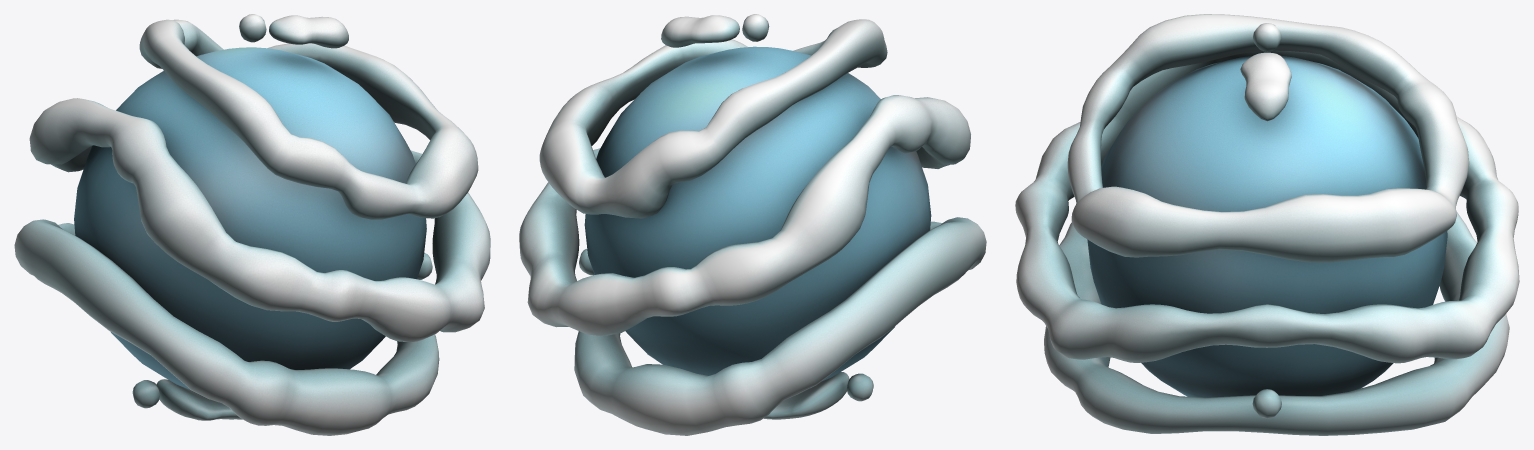
File: ToonPlanet1_v2.glb
3 views of the same model, side by side, from view 1: azimuth 30°, elevation 25°; view 2: azimuth 150°, elevation 25°; view 3: azimuth 270°, elevation 25° (orthographic). The views are drawn at different scales.
Parts seen in each view (by area): view 1: Planet02, Planet02_Cloud03, Planet02_Cloud04, Planet02_Cloud02, Planet02_Cloud01, Planet02_Cloud05, Planet02_Moon03, Planet02_Moon01; view 2: Planet02, Planet02_Cloud03, Planet02_Cloud04, Planet02_Cloud02, Planet02_Cloud01, Planet02_Cloud05, Planet02_Moon01, Planet02_Moon03; view 3: Planet02, Planet02_Cloud02, Planet02_Cloud03, Planet02_Cloud04, Planet02_Cloud01, Planet02_Moon02, Planet02_Moon01.
Boxes of the visible parts, x1,y1,x2,y2 form: Planet02: [74, 47, 426, 389]; Planet02_Cloud03: [29, 98, 490, 341]; Planet02_Cloud04: [14, 219, 439, 435]; Planet02_Cloud02: [139, 19, 478, 219]; Planet02_Cloud01: [269, 15, 348, 48]; Planet02_Cloud05: [156, 379, 242, 420]; Planet02_Moon03: [132, 380, 159, 408]; Planet02_Moon01: [239, 14, 266, 42]; Planet02: [584, 46, 931, 381]; Planet02_Cloud03: [519, 95, 970, 335]; Planet02_Cloud04: [574, 217, 986, 435]; Planet02_Cloud02: [539, 19, 887, 218]; Planet02_Cloud01: [661, 15, 739, 47]; Planet02_Cloud05: [763, 372, 849, 419]; Planet02_Moon01: [742, 14, 769, 41]; Planet02_Moon03: [847, 373, 873, 401]; Planet02: [1087, 55, 1447, 397]; Planet02_Cloud02: [1067, 14, 1469, 262]; Planet02_Cloud03: [1015, 50, 1519, 363]; Planet02_Cloud04: [1044, 211, 1509, 435]; Planet02_Cloud01: [1240, 52, 1291, 121]; Planet02_Moon02: [1252, 389, 1281, 418]; Planet02_Moon01: [1253, 23, 1281, 51].
Bounding box in the file's own units: 11.53 × 11.28 × 12.8.
1 material, 1 textured.
